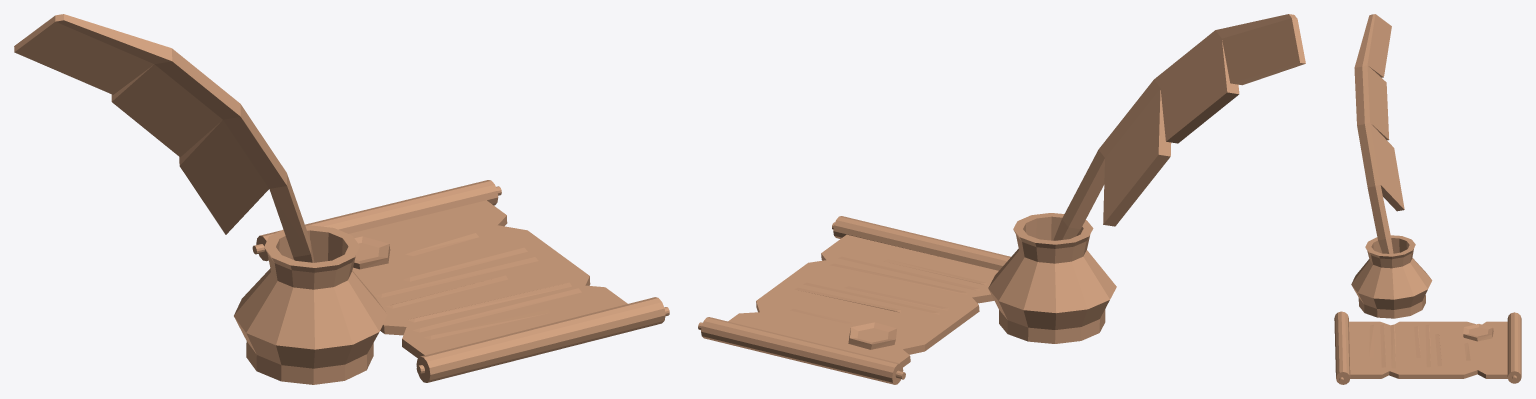
Rendered from literature.glb.
The picture shows the model from 3 angles, left to right: view 1: azimuth 30°, elevation 25°; view 2: azimuth 150°, elevation 25°; view 3: azimuth 270°, elevation 25°; orthographic projection. The views are drawn at different scales.
Visible parts, largest first — view 1: literature__orient; view 2: literature__orient; view 3: literature__orient.
Boxes of the visible parts, box(x1,y1,x2,y2) form: literature__orient: box(14, 14, 669, 384); literature__orient: box(698, 14, 1305, 384); literature__orient: box(1334, 14, 1521, 384).
Size of the model in its own units: 1 by 0.6697 by 0.5048.
